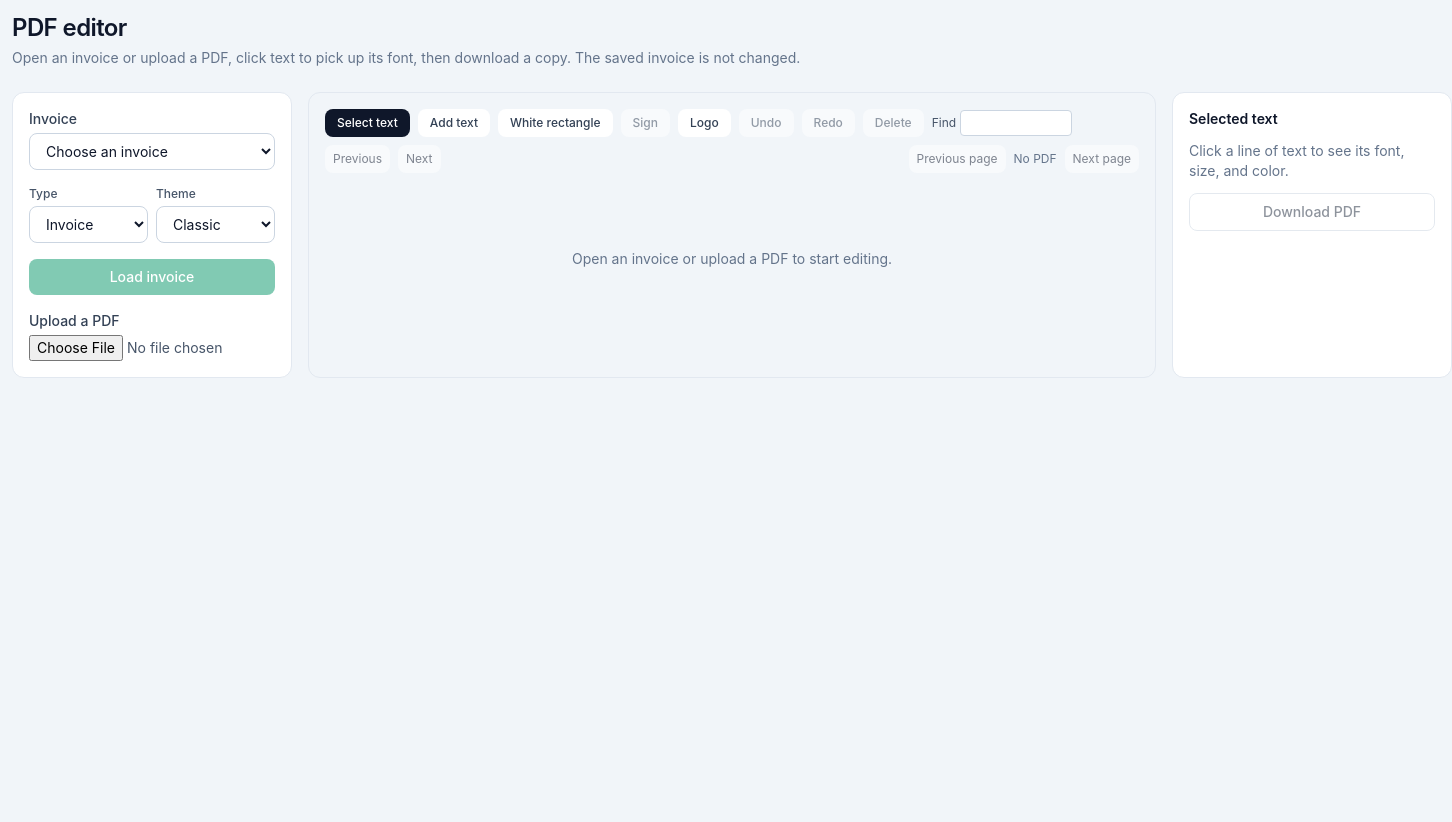
it: PdfEditorPage › finds text on the next page
Select "00270 · TLH Transport" in the dropdown labelled "Invoice". click: (152, 152)
box: [29,133,275,170]
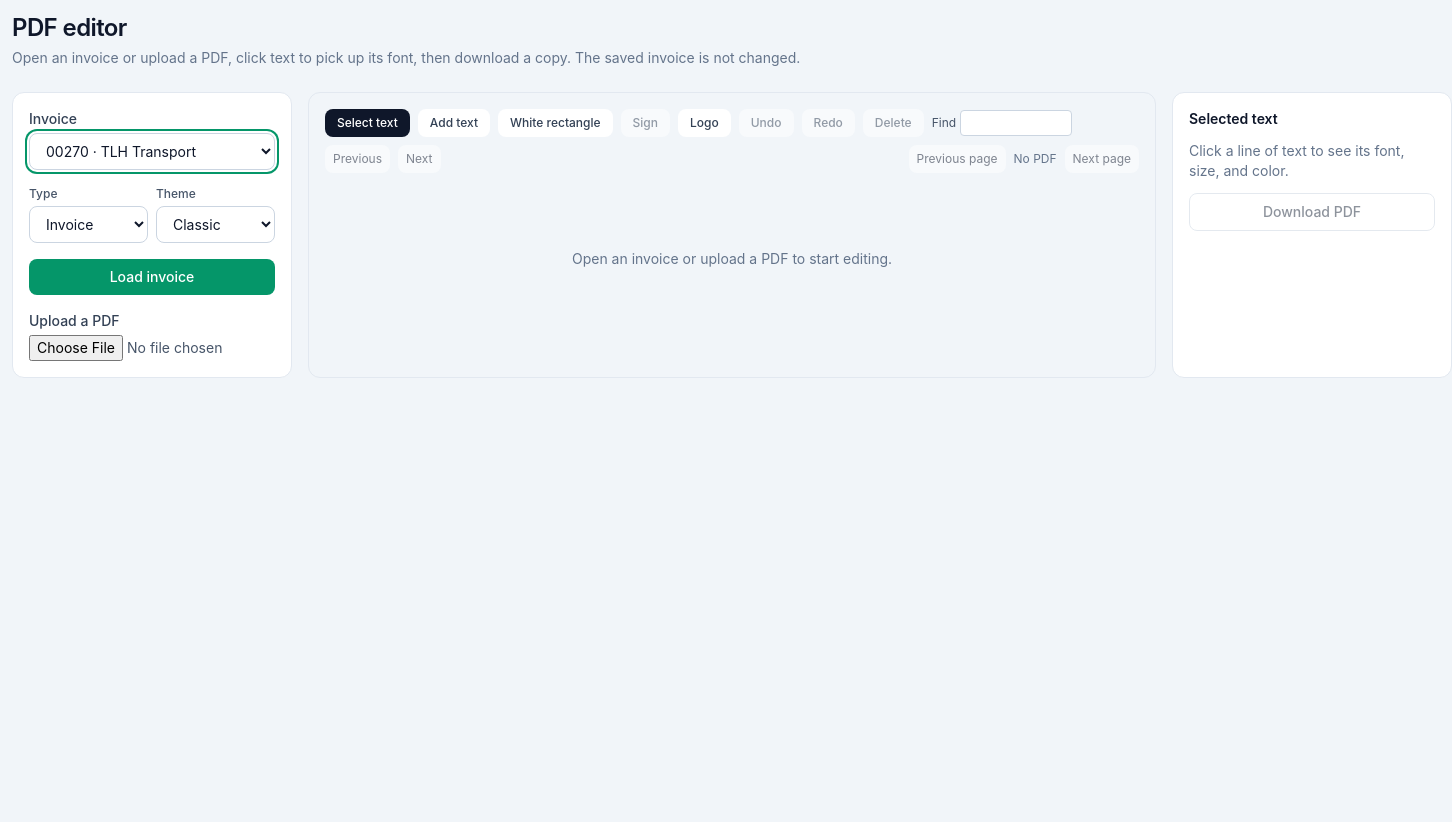
Click the button "Load invoice". click: (152, 277)
box: [29,259,275,295]
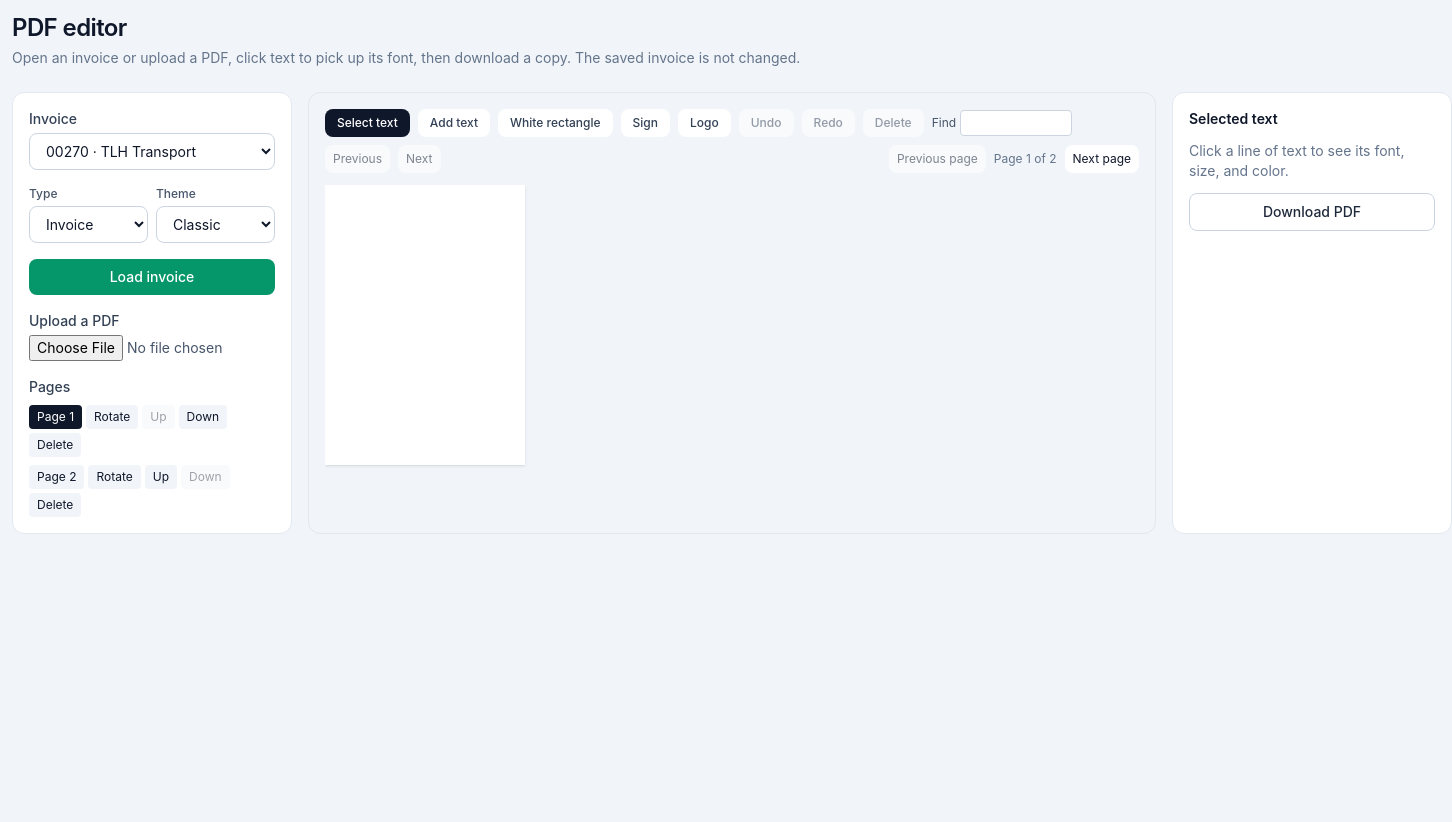
expect the text "Page 1 of 2" is shown: met, box [994,151,1057,167]
Type "Beta" into the field named "find text". click: (1016, 123)
box: [960,110,1072,136]
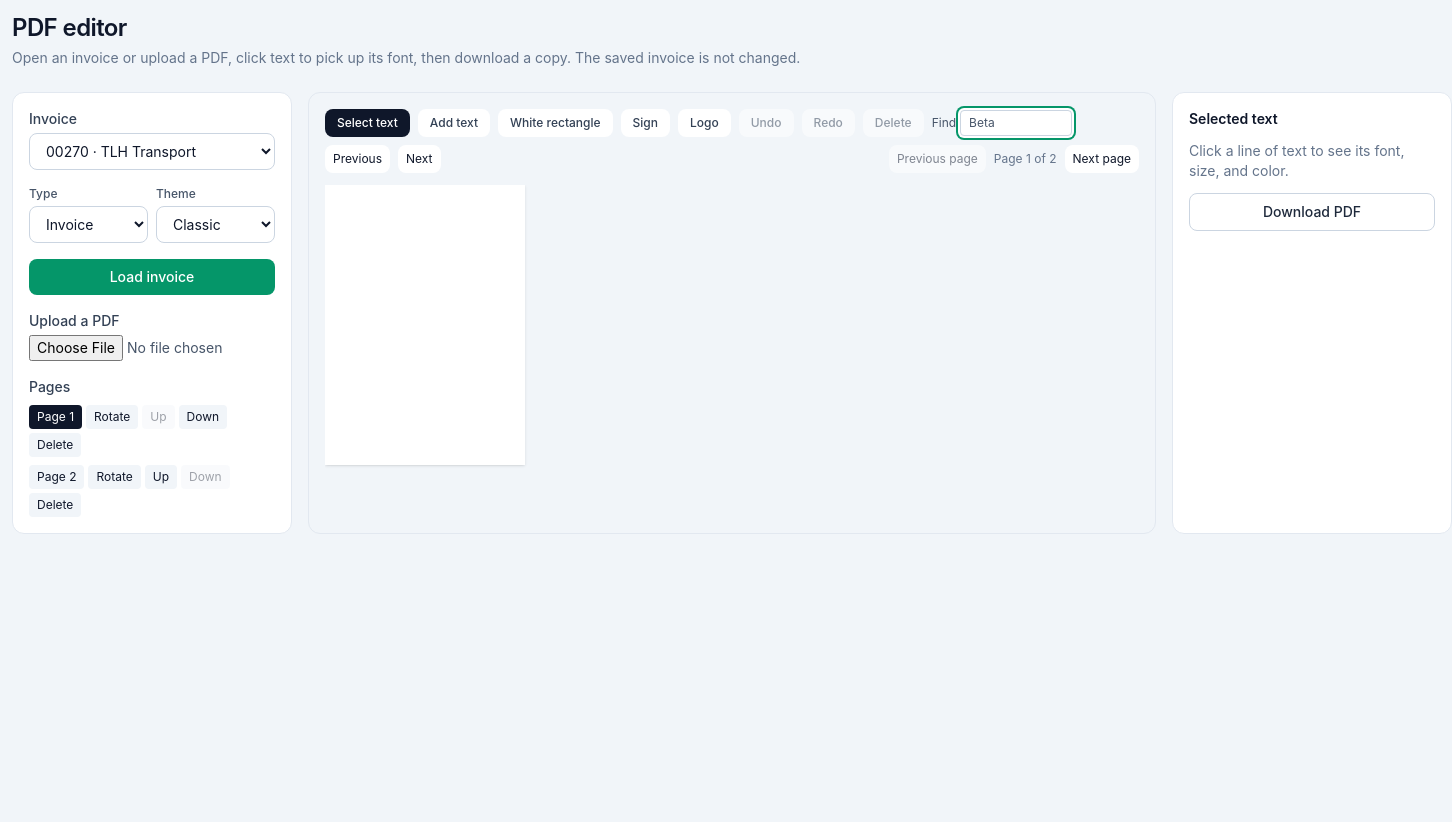
Click the button with aria-label "next match". click: (419, 159)
box: [398,145,440,173]
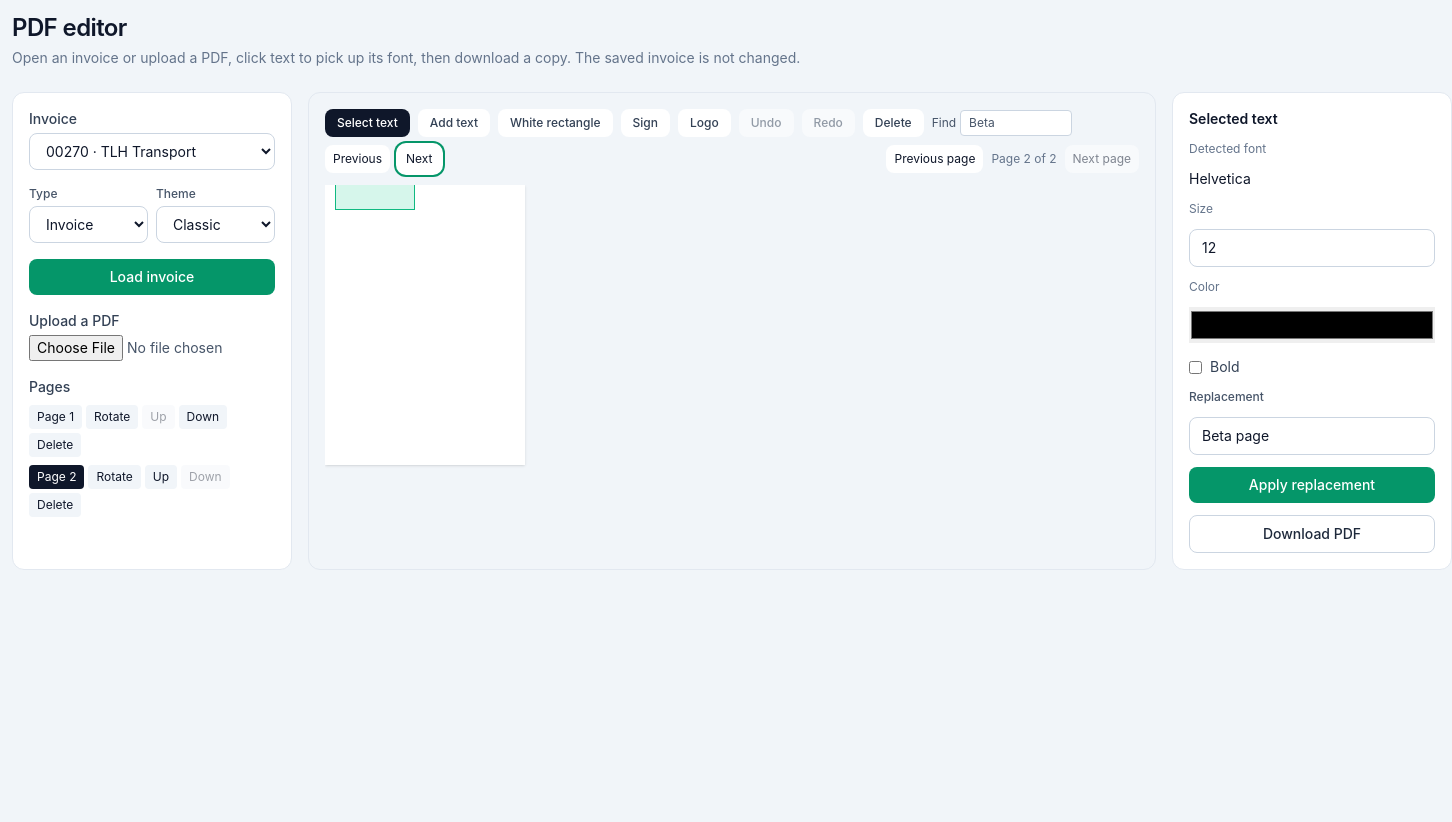
expect the text "Page 2 of 2" is shown: met, box [991,151,1057,167]
